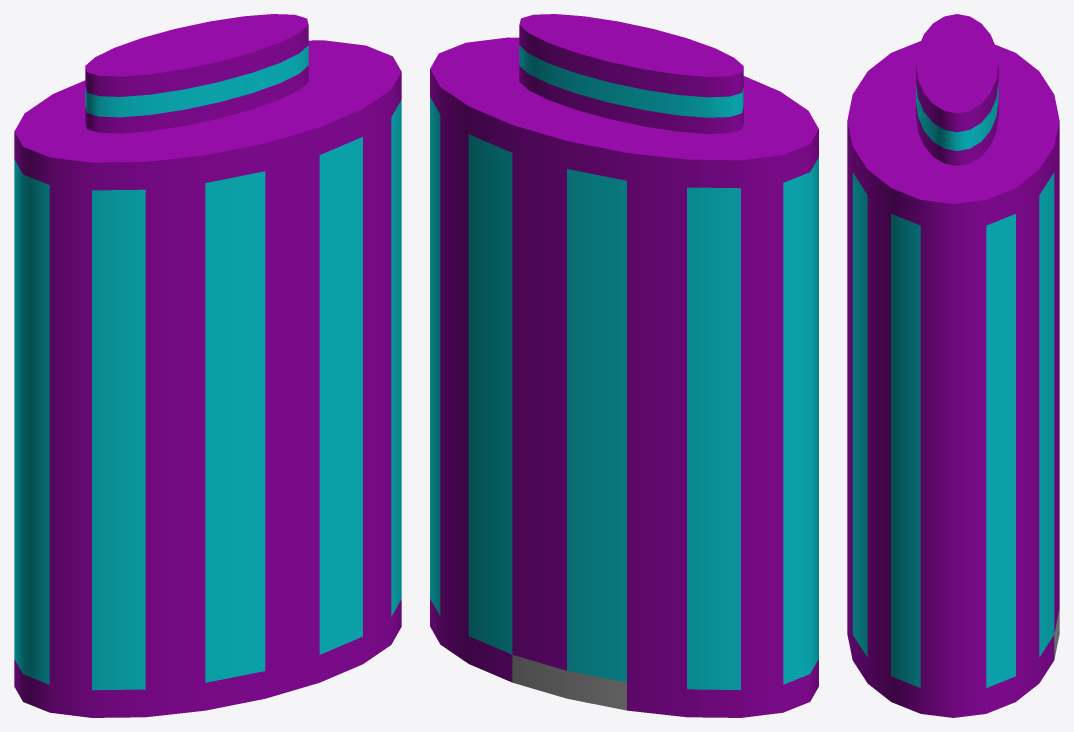
Rendered from building 2.fbx.
3 renders of one model, left to right at view 1: azimuth 30°, elevation 25°; view 2: azimuth 150°, elevation 25°; view 3: azimuth 270°, elevation 25°, orthographic. The views are drawn at different scales.
Parts seen in each view (by area): view 1: pCylinder3; view 2: pCylinder3; view 3: pCylinder3.
Part boxes in pixels (x1=…): pCylinder3: x1=14, y1=14, x2=401, y2=717; pCylinder3: x1=430, y1=14, x2=818, y2=717; pCylinder3: x1=847, y1=14, x2=1059, y2=717.
Size of the model in its own units: 14.08 by 22.28 by 7.56.
